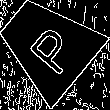P_NW: (17, 15, 77, 76)
